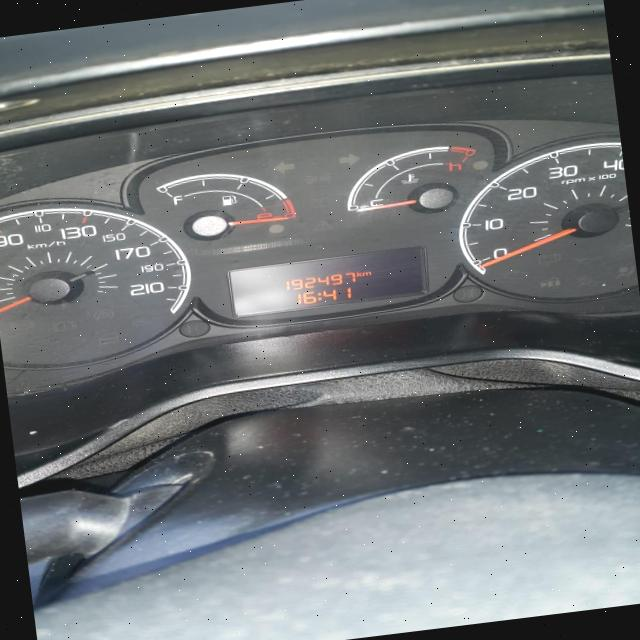odometer: (225, 244, 432, 318)
